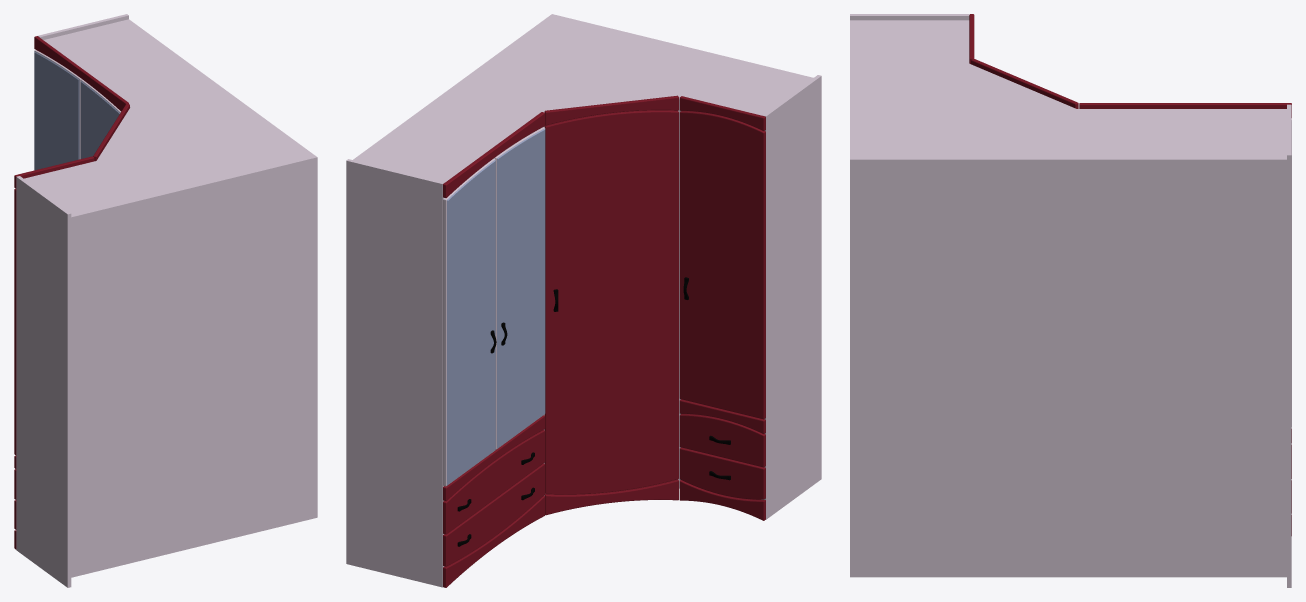
Rendered from Wardrobe With Mirror.FBX.
The picture shows the model from 3 angles, left to right: view 1: azimuth 30°, elevation 25°; view 2: azimuth 150°, elevation 25°; view 3: azimuth 270°, elevation 25°; orthographic projection. The views are drawn at different scales.
Parts seen in each view (by area): view 1: shkaf; view 2: shkaf; view 3: shkaf.
Boxes of the visible parts, x1,y1,x2,y2 form: shkaf: [14, 14, 317, 587]; shkaf: [346, 14, 821, 587]; shkaf: [850, 14, 1291, 587].
Bounding box in the file's own units: 1400 × 2001 × 1850.
